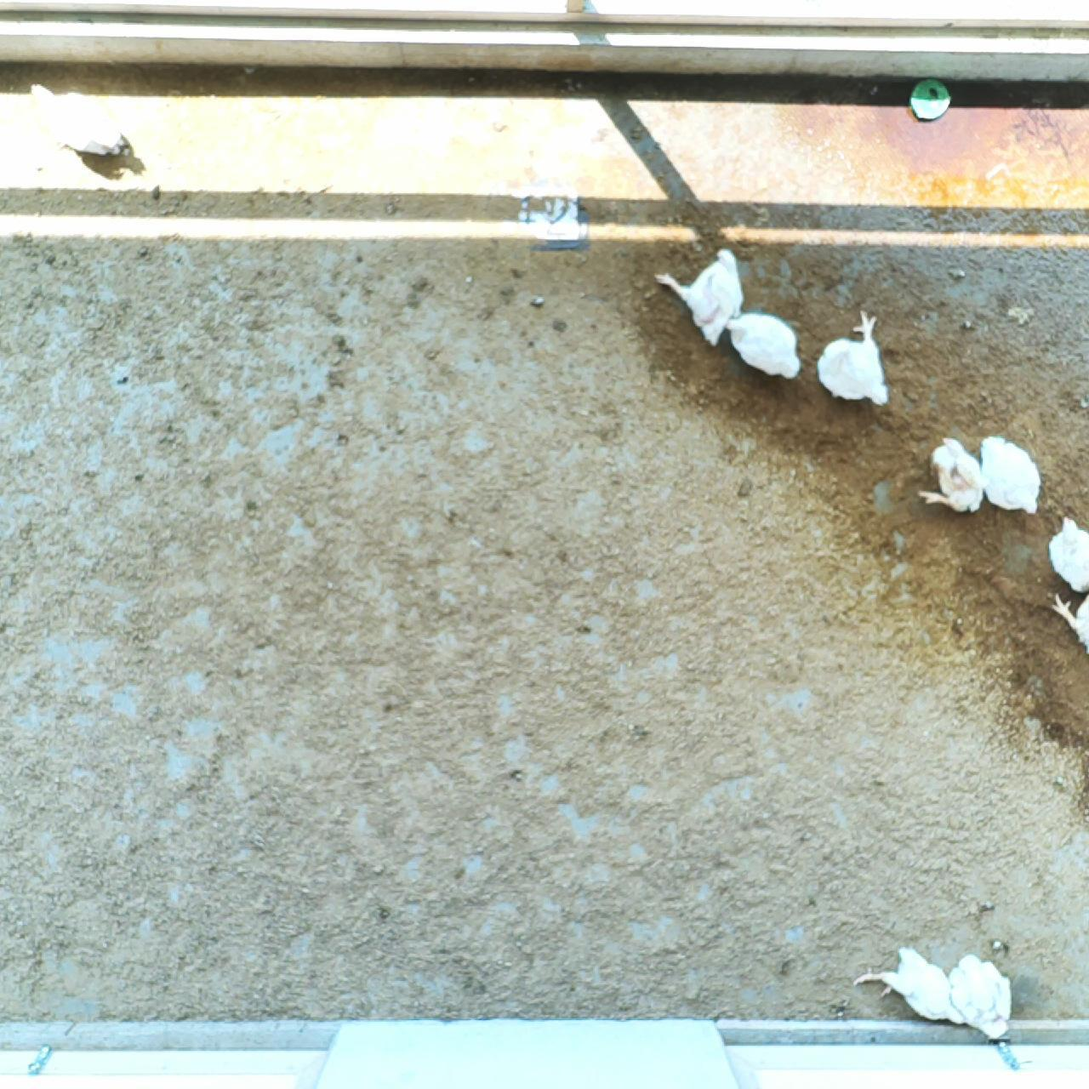chicken: (30, 77, 156, 166), (860, 943, 969, 1018), (660, 246, 740, 335), (729, 303, 807, 383), (979, 439, 1055, 518), (821, 330, 892, 412), (950, 955, 1023, 1034), (923, 436, 985, 514), (1052, 513, 1089, 598)
